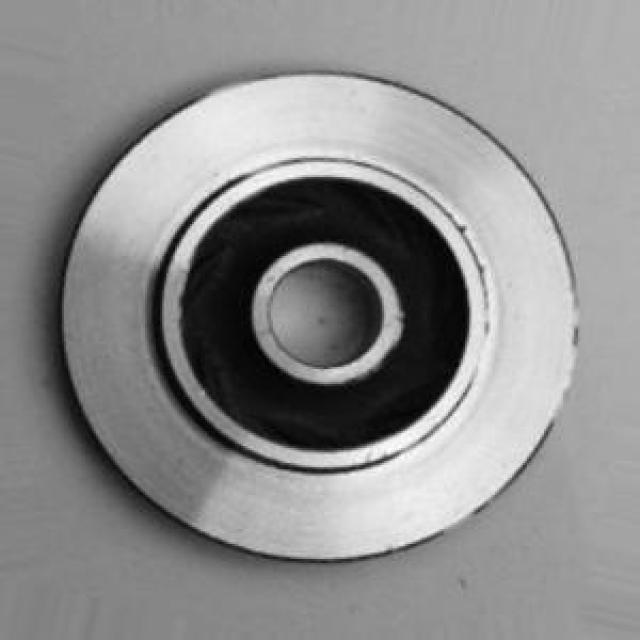Defect: (449, 209, 482, 245)
